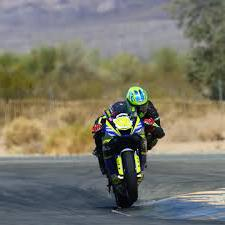motorcycle: (92, 99, 155, 213)
